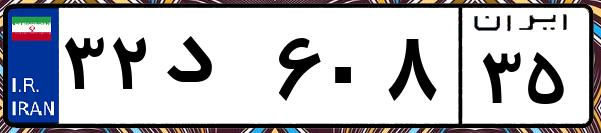0: (330, 28, 385, 110)
2: (110, 28, 158, 98)
3: (57, 26, 110, 100), (475, 38, 525, 113)
5: (525, 38, 570, 115)
6: (270, 28, 330, 110)
8: (385, 28, 445, 110)
د: (158, 20, 270, 120)
